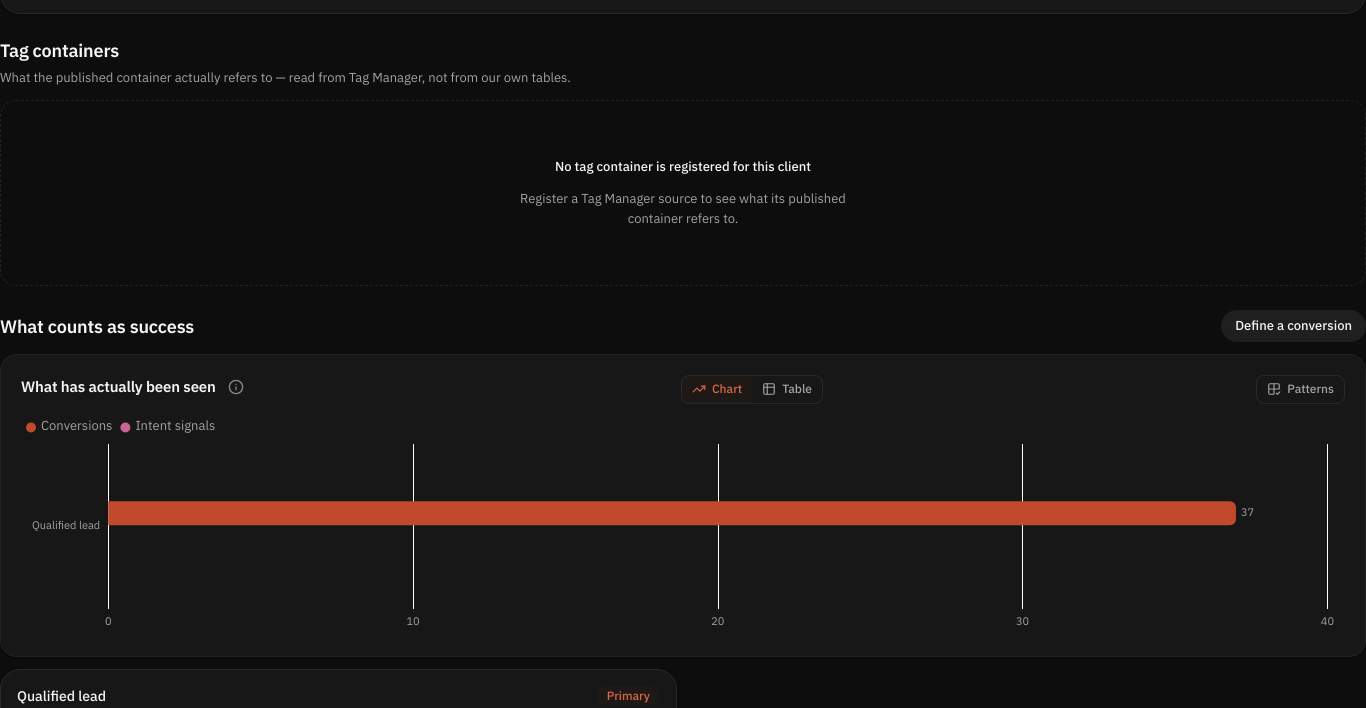
the tracking centre › will not save a conversion until a client is chosen
(page scrolled)
Click the button "Define a conversion": coordinates (1294, 326) x1=1221 y1=310 x2=1365 y2=342
(page scrolled)
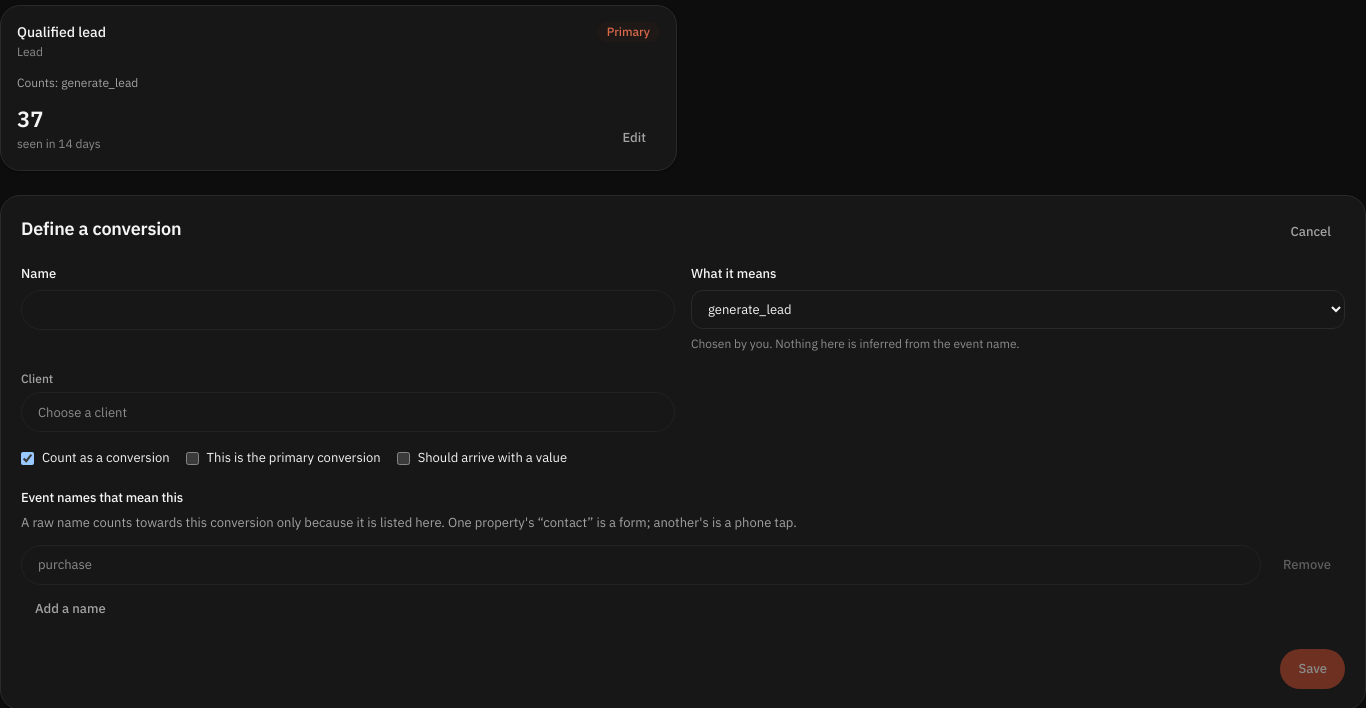
expect the button "Save" is disabled: met, box x1=1280 y1=649 x2=1345 y2=689
expect the dropdown labelled "Client" is empty: met, box x1=21 y1=392 x2=675 y2=432
